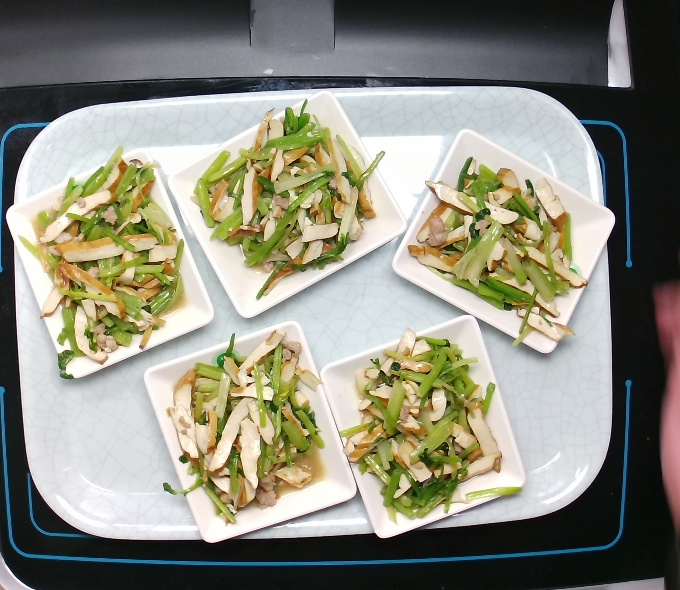wcq-XiangGanQinCai: (11, 138, 192, 386), (184, 95, 389, 307), (338, 324, 525, 527), (404, 153, 593, 350), (161, 326, 327, 530)
